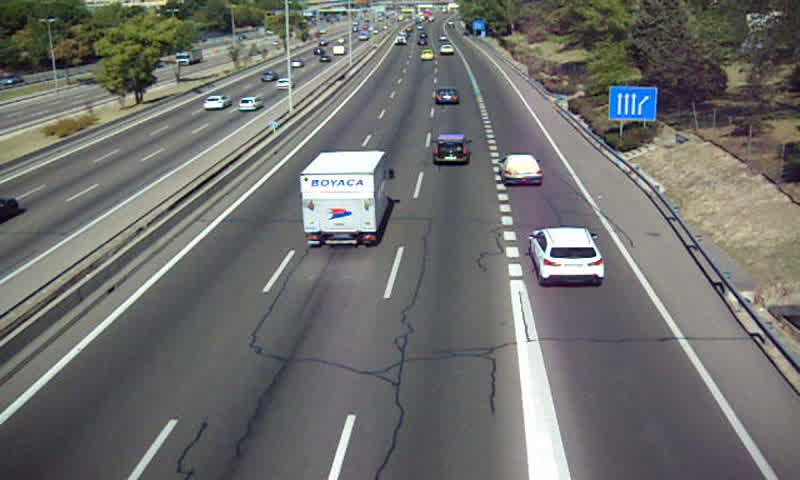car: (526, 227, 606, 286), (501, 154, 542, 185), (431, 133, 472, 164), (434, 87, 458, 106), (418, 48, 434, 60), (439, 44, 455, 55)
small-truck: (297, 152, 391, 249)
